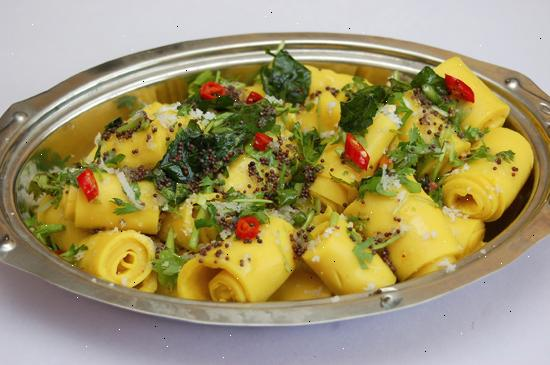khandvi: (67, 85, 544, 305)
